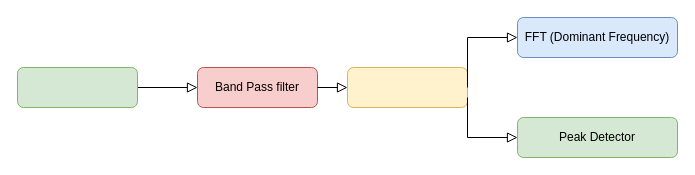
Image size: 695x175. Some labels were removed from this diagram. The shapes that lost their labels are listed below. From the top down, each one's centre as x and y in pixels, then its label:
(x=77, y=87): Sample Video for 300 number of frames
(x=407, y=87): ICA processing
